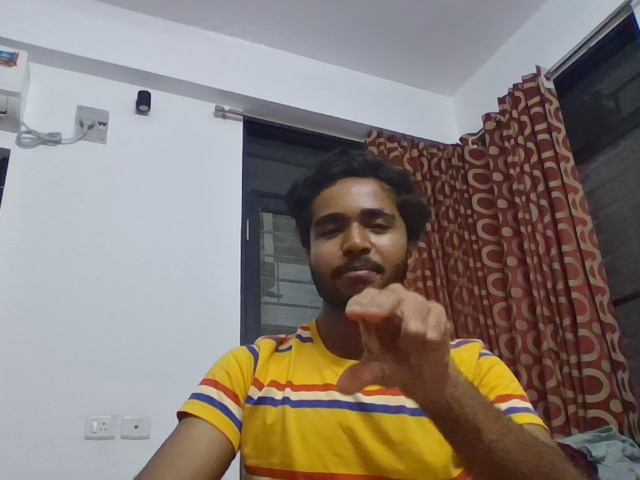No: (308, 273, 481, 412)
